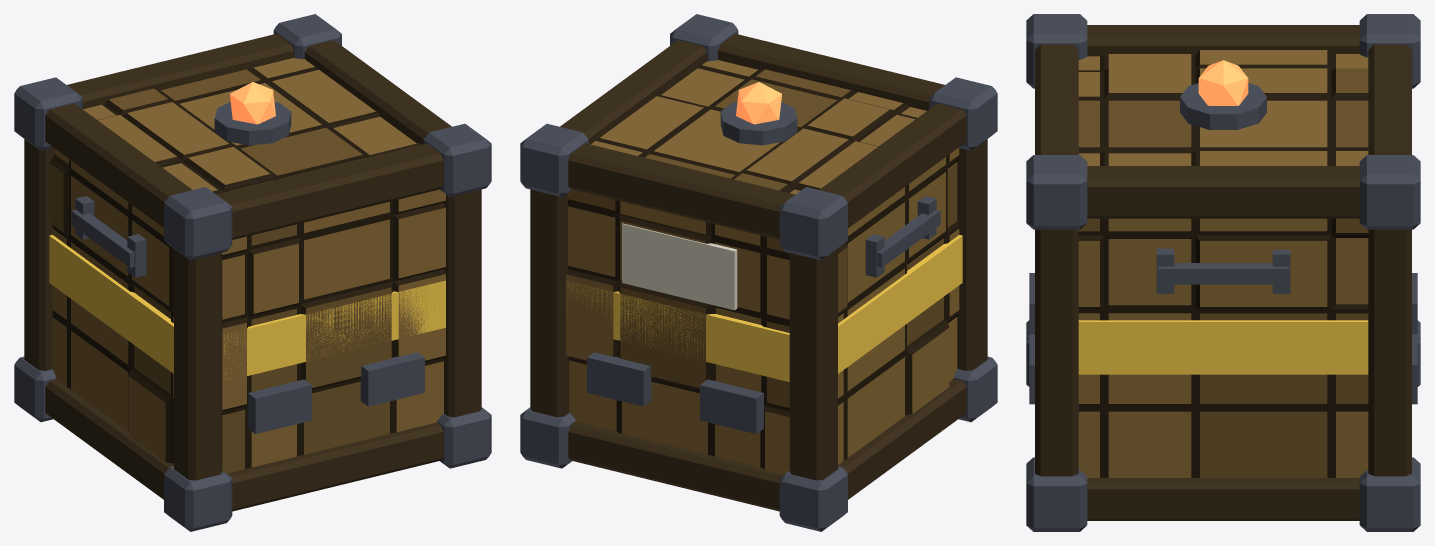
The model's file is crate.glb.
The picture shows the model from 3 angles, left to right: view 1: azimuth 30°, elevation 25°; view 2: azimuth 150°, elevation 25°; view 3: azimuth 270°, elevation 25°; orthographic projection. The views are drawn at different scales.
Visible parts, largest first — view 1: crate_mesh, light; view 2: crate_mesh, light; view 3: crate_mesh, light.
Part boxes in pixels (<box>): crate_mesh: <box>14,14,491,531</box>; light: <box>230,82,275,124</box>; crate_mesh: <box>520,14,997,531</box>; light: <box>736,82,781,124</box>; crate_mesh: <box>1026,14,1420,531</box>; light: <box>1198,60,1248,105</box>.
Bounding box in the file's own units: 2.72 × 2.98 × 2.72.
